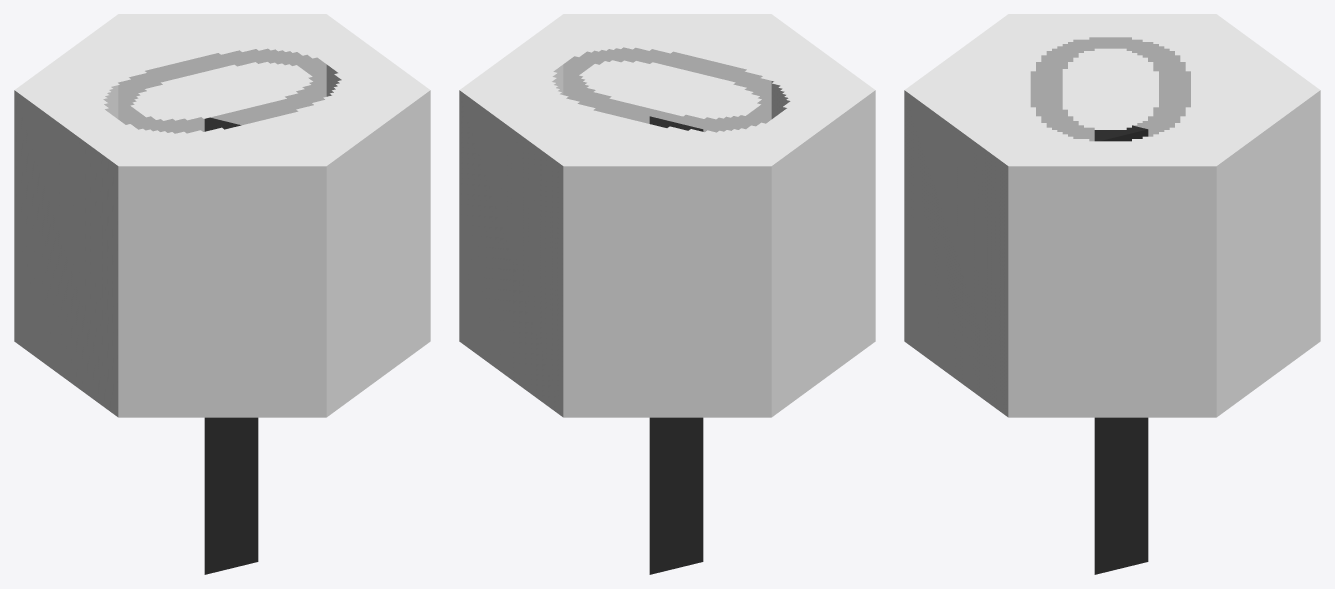
Rendered from button_02.obj.
3 renders of one model, left to right at view 1: azimuth 30°, elevation 25°; view 2: azimuth 150°, elevation 25°; view 3: azimuth 270°, elevation 25°, orthographic.
Parts seen in each view (by area): view 1: Cylinder_Cylinder.004; view 2: Cylinder_Cylinder.004; view 3: Cylinder_Cylinder.004.
Boxes of the visible parts, box(x1,y1,x2,y2) form: Cylinder_Cylinder.004: box(14, 14, 430, 574); Cylinder_Cylinder.004: box(459, 14, 875, 574); Cylinder_Cylinder.004: box(904, 14, 1320, 574).
Size of the model in its own units: 0.0125 by 0.018 by 0.0144.
